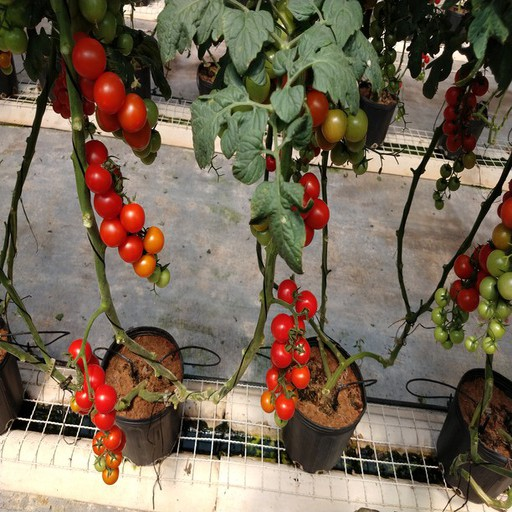green tomato bunch: (465, 251, 512, 357), (432, 287, 470, 352)
mixed tomato bunch: (273, 61, 368, 173)
red tomato bunch: (48, 36, 152, 148), (80, 139, 155, 277), (65, 337, 127, 483), (260, 278, 318, 421), (252, 168, 330, 259), (444, 66, 489, 157), (447, 236, 495, 311)
